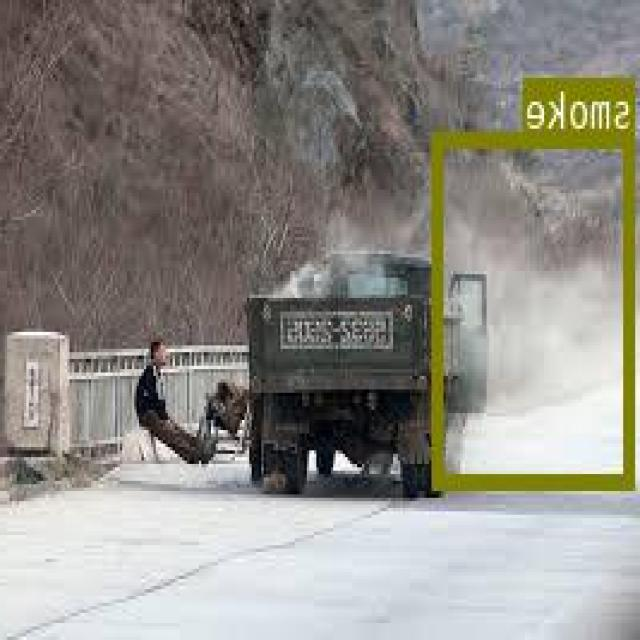smoke: (434, 130, 636, 486)
